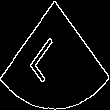L_NE: (34, 26, 76, 84)
